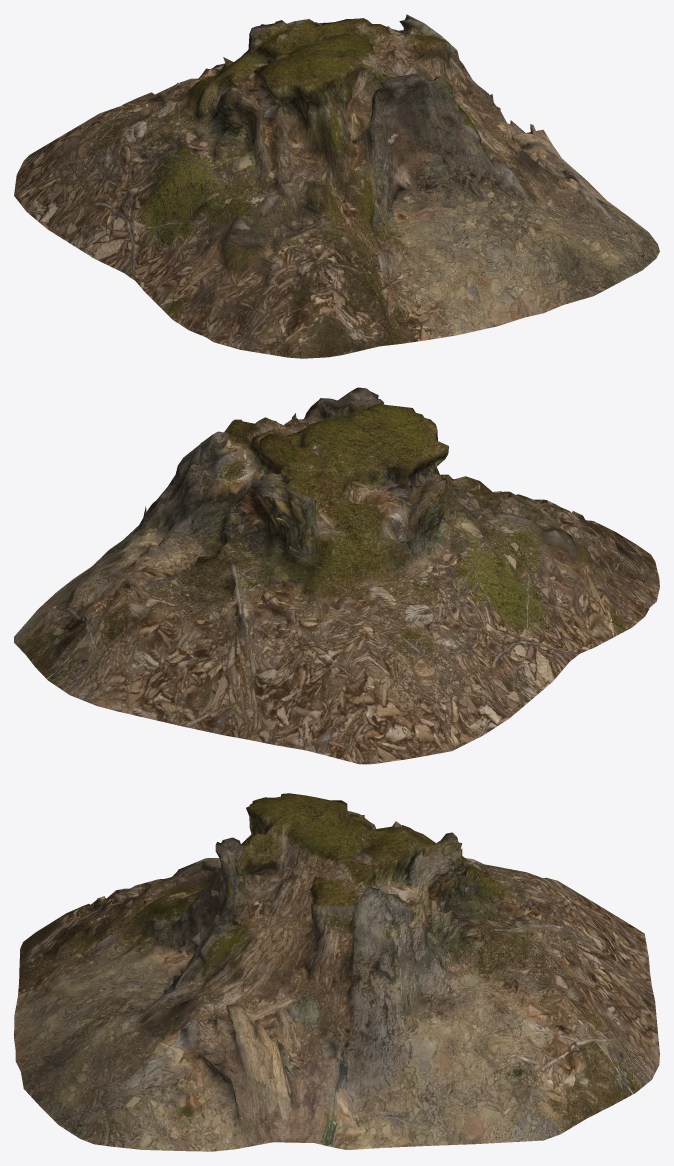
Rendered from tree_stump_01.glb.
3 renders of one model, top to bottom at view 1: azimuth 30°, elevation 25°; view 2: azimuth 150°, elevation 25°; view 3: azimuth 270°, elevation 25°, orthographic. The views are drawn at different scales.
Visible parts, largest first — view 1: tree_stump_01; view 2: tree_stump_01; view 3: tree_stump_01.
Part boxes in pixels (x1=…): tree_stump_01: x1=14, y1=14, x2=659, y2=358; tree_stump_01: x1=14, y1=387, x2=659, y2=764; tree_stump_01: x1=14, y1=793, x2=659, y2=1151.
Size of the model in its own units: 1.43 by 0.5709 by 1.59.
Materials: 1 (1 with a texture image).
